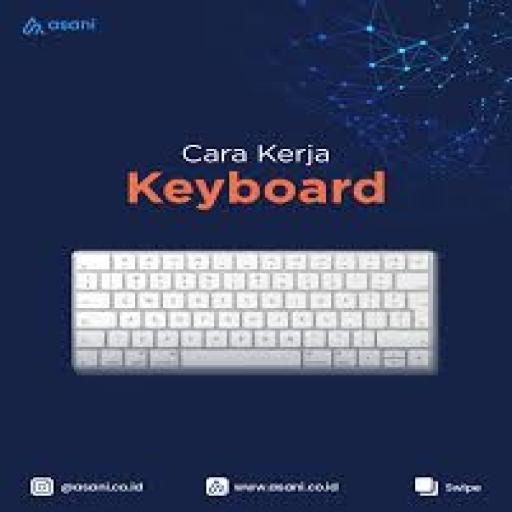keyboard: (74, 251, 436, 371)
